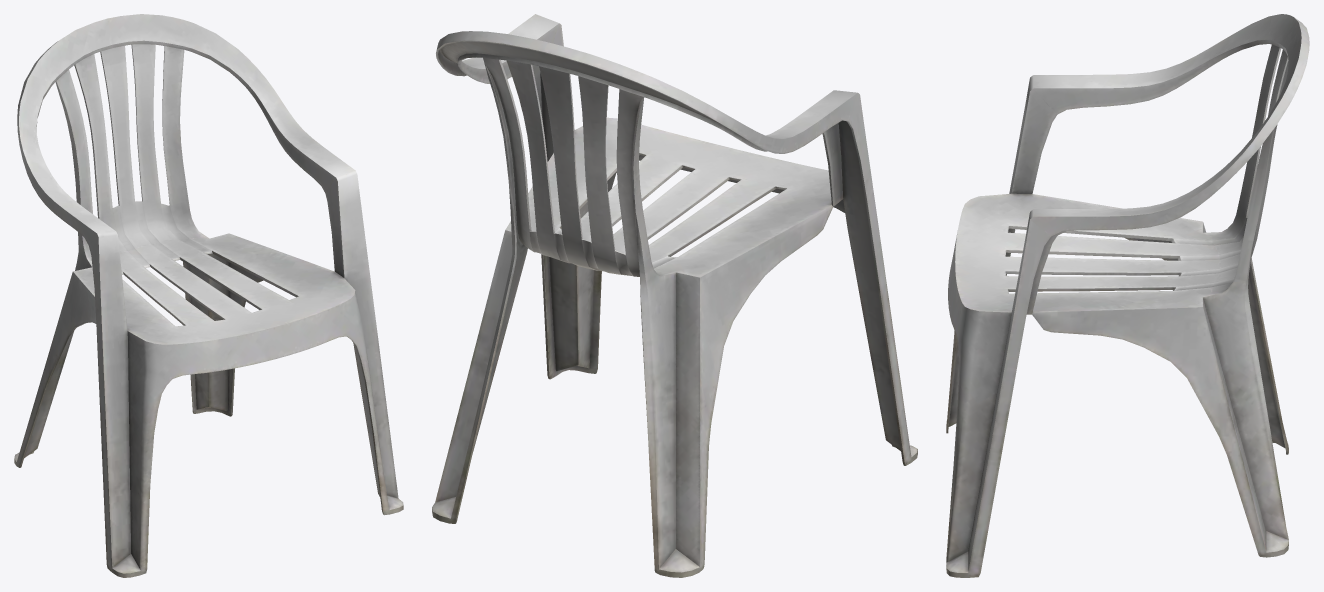
Rendered from plastic_monobloc_chair_01.gltf.
3 renders of one model, left to right at view 1: azimuth 30°, elevation 25°; view 2: azimuth 150°, elevation 25°; view 3: azimuth 270°, elevation 25°, orthographic. The views are drawn at different scales.
Visible parts, largest first — view 1: plastic_monobloc_chair_01; view 2: plastic_monobloc_chair_01; view 3: plastic_monobloc_chair_01.
Boxes of the visible parts, box(x1,y1,x2,y2) form: plastic_monobloc_chair_01: box(14, 14, 403, 577); plastic_monobloc_chair_01: box(432, 14, 917, 577); plastic_monobloc_chair_01: box(946, 14, 1309, 577).
Bounding box in the file's own units: 0.6419 × 0.8798 × 0.6276.
1 material, 1 textured.
